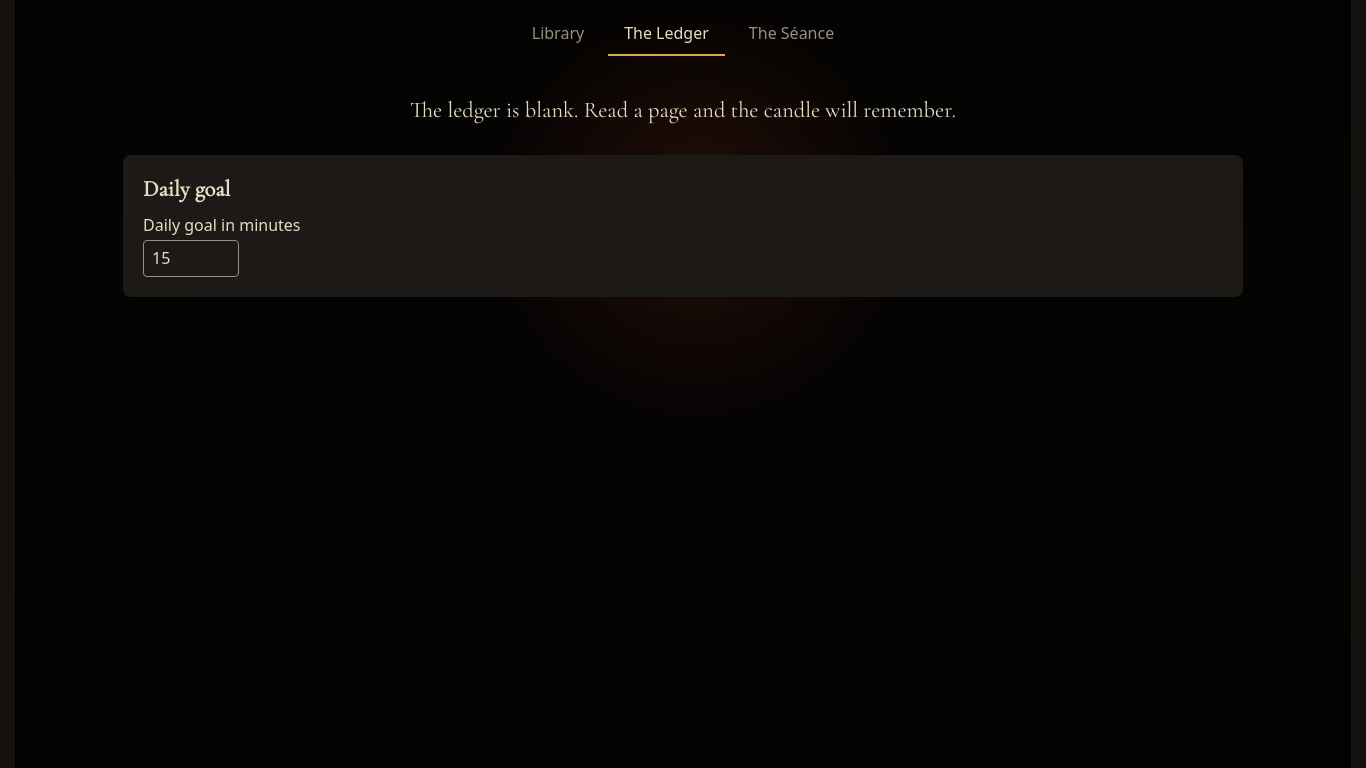
it: Daily_Goal field and rod_daily_goal (Req 12.2, 8.19) › shows the clamped value in the field after leaving it
Step 1. Replace the text in the number field labelled "Daily goal in minutes" with "999" → (191, 258), box [143, 240, 239, 277]
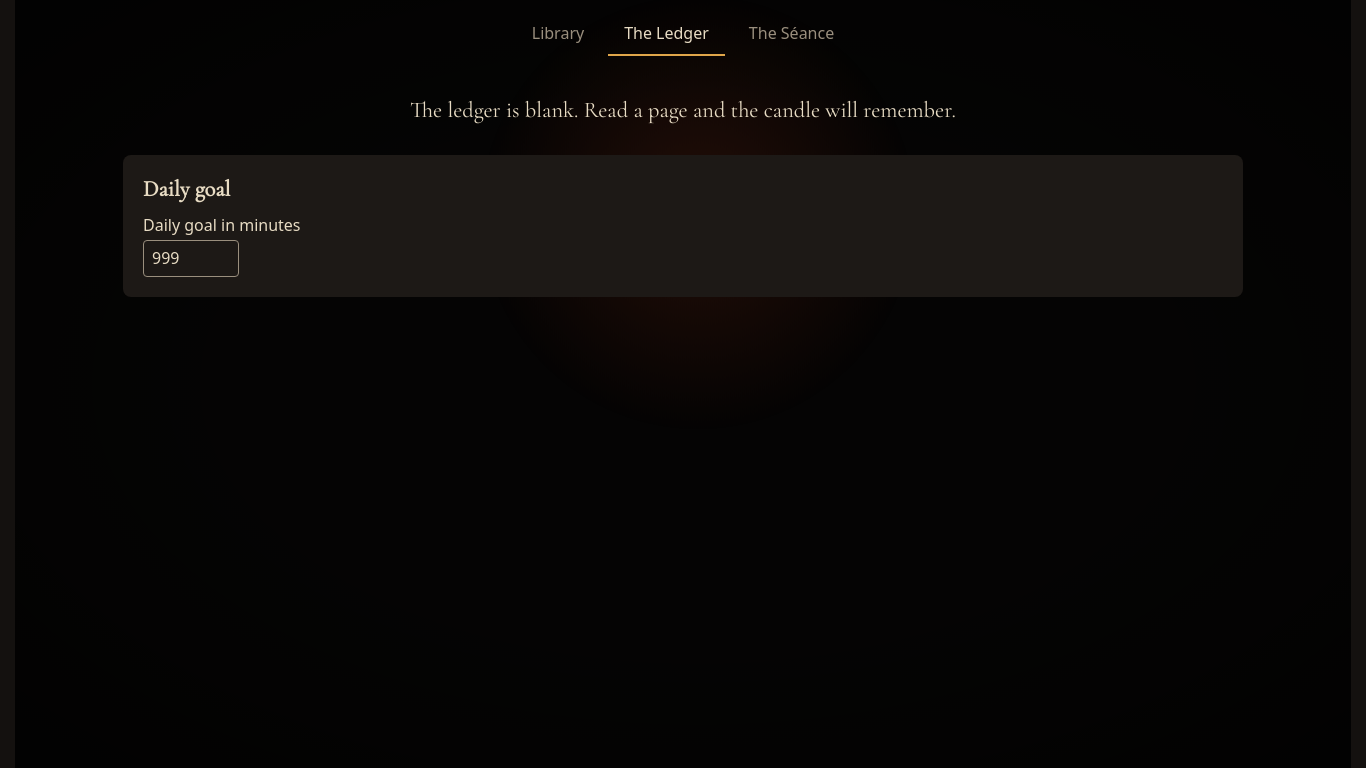
Step 2. Leave the number field labelled "Daily goal in minutes", box [143, 240, 239, 277]
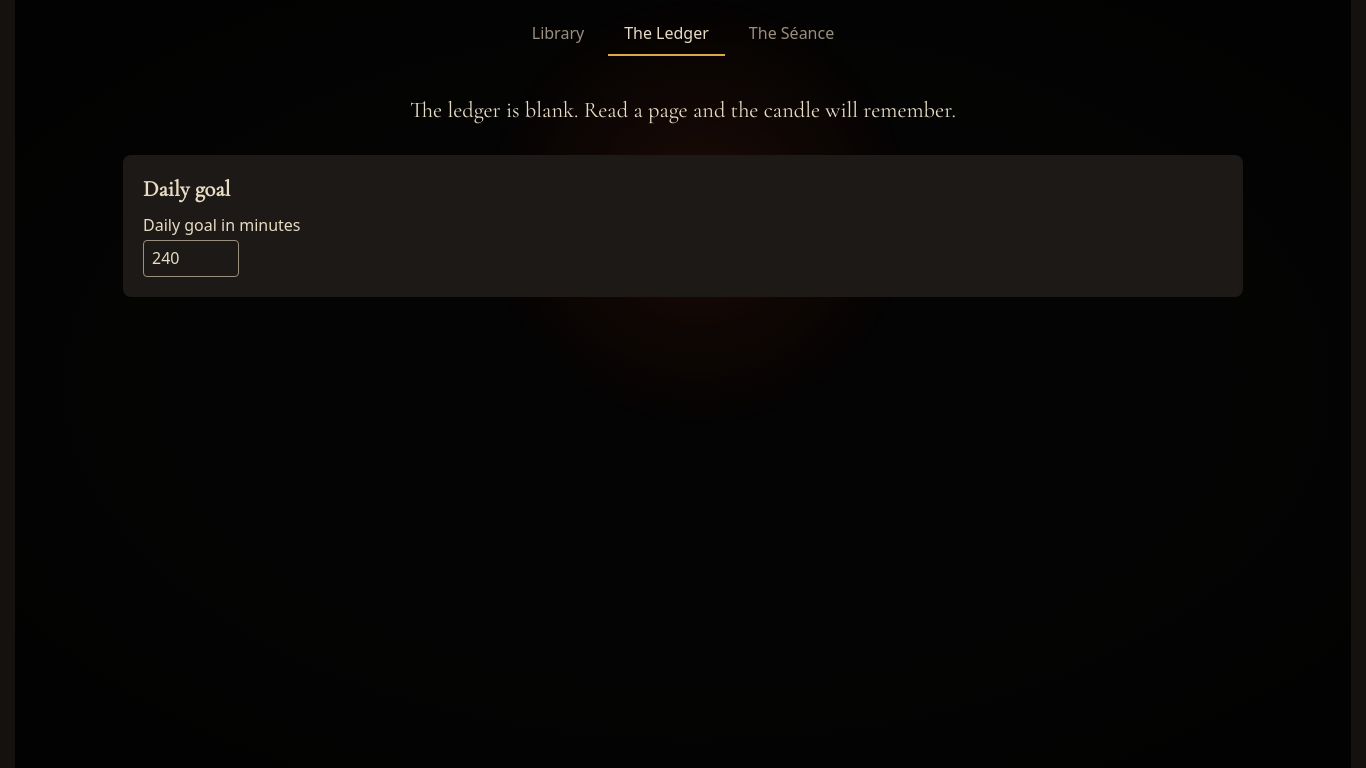
Check: the number field labelled "Daily goal in minutes" holds "240", box [143, 240, 239, 277]
